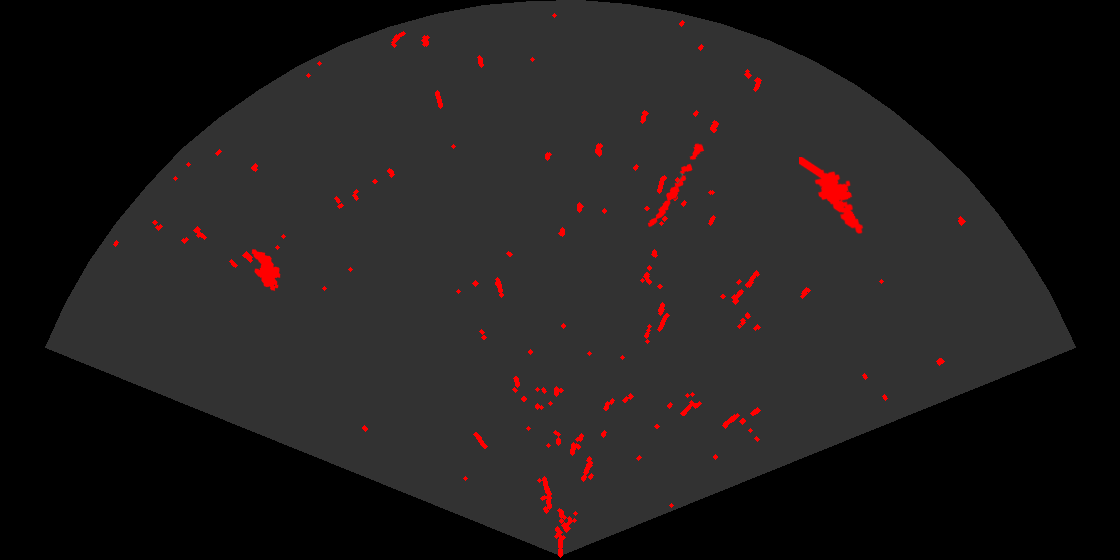AUV: (250, 248, 282, 293)
chain: (646, 141, 706, 229)
frogman: (799, 157, 865, 235)
